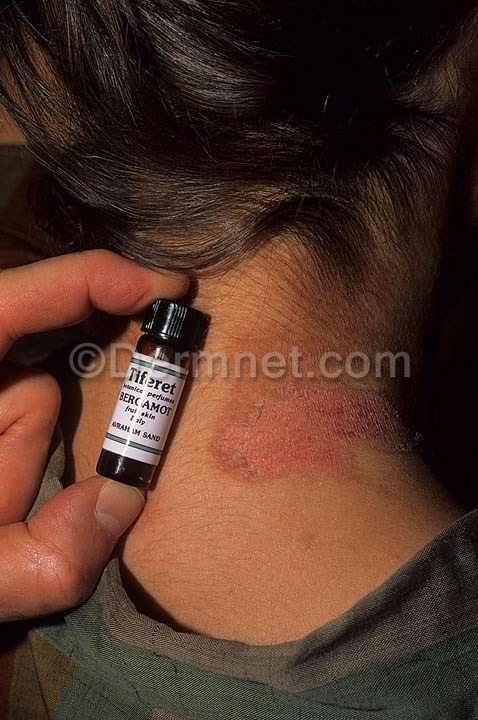Melasma: (206, 382, 419, 491)
